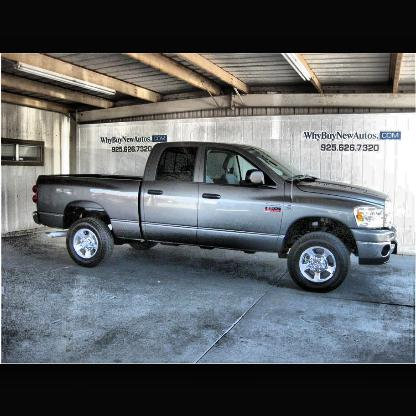Dodge Ram Pickup 3500 Quad Cab 2009: (32, 140, 400, 294)
